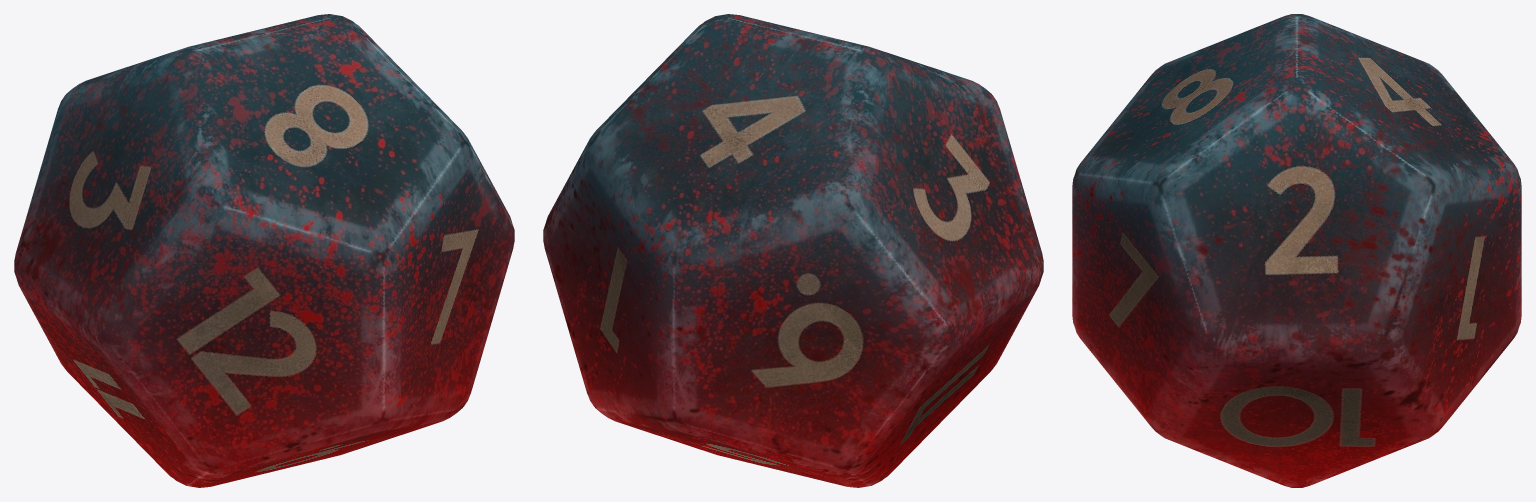
File: TPK_d12.gltf
3 renders of one model, left to right at view 1: azimuth 30°, elevation 25°; view 2: azimuth 150°, elevation 25°; view 3: azimuth 270°, elevation 25°, orthographic. The views are drawn at different scales.
Visible parts, largest first — view 1: dice_12; view 2: dice_12; view 3: dice_12.
Boxes of the visible parts, x1,y1,x2,y2 form: dice_12: [14, 14, 514, 487]; dice_12: [543, 14, 1043, 487]; dice_12: [1072, 14, 1521, 487].
Bounding box in the file's own units: 163 × 163 × 163.
1 material, 1 textured.
